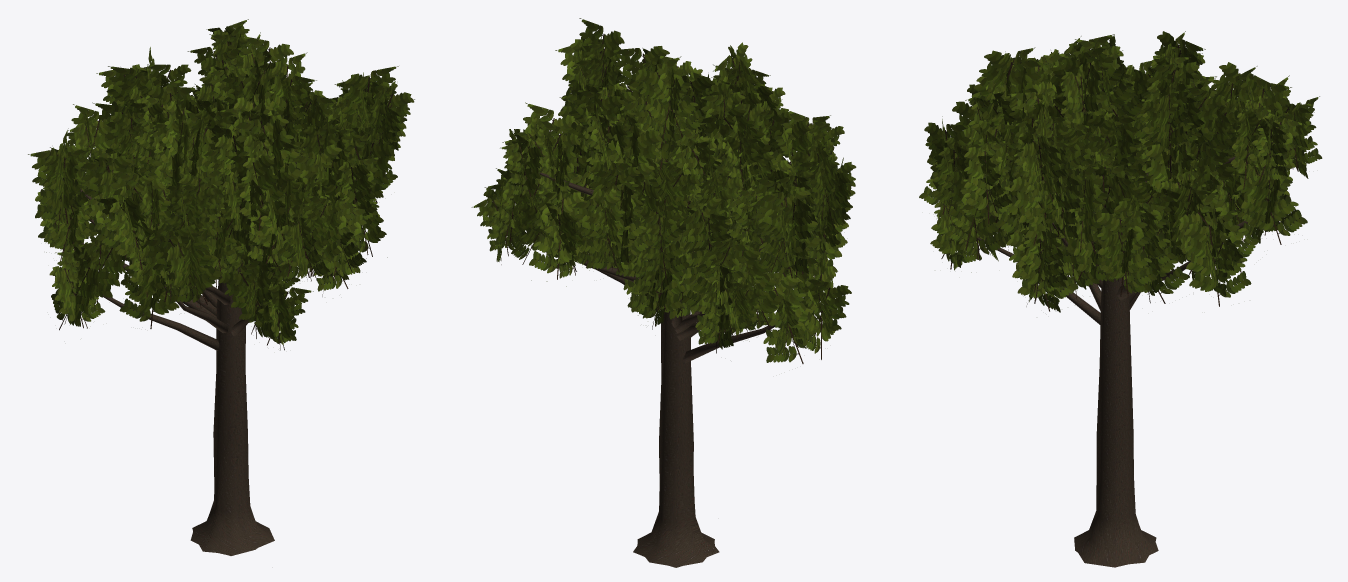
Rendered from nature.glb.
3 views of the same model, side by side, from view 1: azimuth 30°, elevation 25°; view 2: azimuth 150°, elevation 25°; view 3: azimuth 270°, elevation 25° (orthographic). The views are drawn at different scales.
Parts seen in each view (by area): view 1: Broadleaf2Mesh, Broadleaf0Mesh, Broadleaf1Mesh; view 2: Broadleaf2Mesh, Broadleaf0Mesh, Broadleaf1Mesh; view 3: Broadleaf2Mesh, Broadleaf0Mesh, Broadleaf1Mesh.
Boxes of the visible parts, x1,y1,x2,y2 form: Broadleaf2Mesh: (28, 32, 405, 552); Broadleaf0Mesh: (35, 46, 398, 555); Broadleaf1Mesh: (38, 19, 414, 554); Broadleaf2Mesh: (501, 42, 848, 565); Broadleaf0Mesh: (532, 18, 856, 565); Broadleaf1Mesh: (471, 37, 855, 567); Broadleaf2Mesh: (930, 31, 1307, 567); Broadleaf0Mesh: (919, 34, 1322, 564); Broadleaf1Mesh: (952, 46, 1304, 566).
Size of the model in its own units: 25.78 by 33.4 by 24.11.
5 materials, 5 textured.
